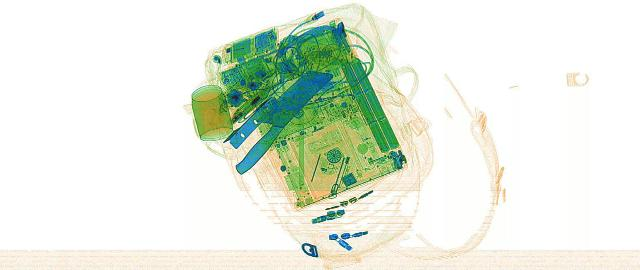Knife: (214, 69, 336, 173)
